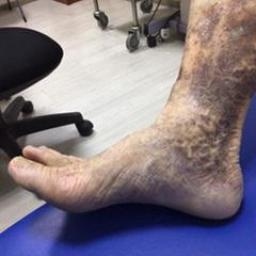Medial View -Right Foot-: (3, 76, 252, 226)
